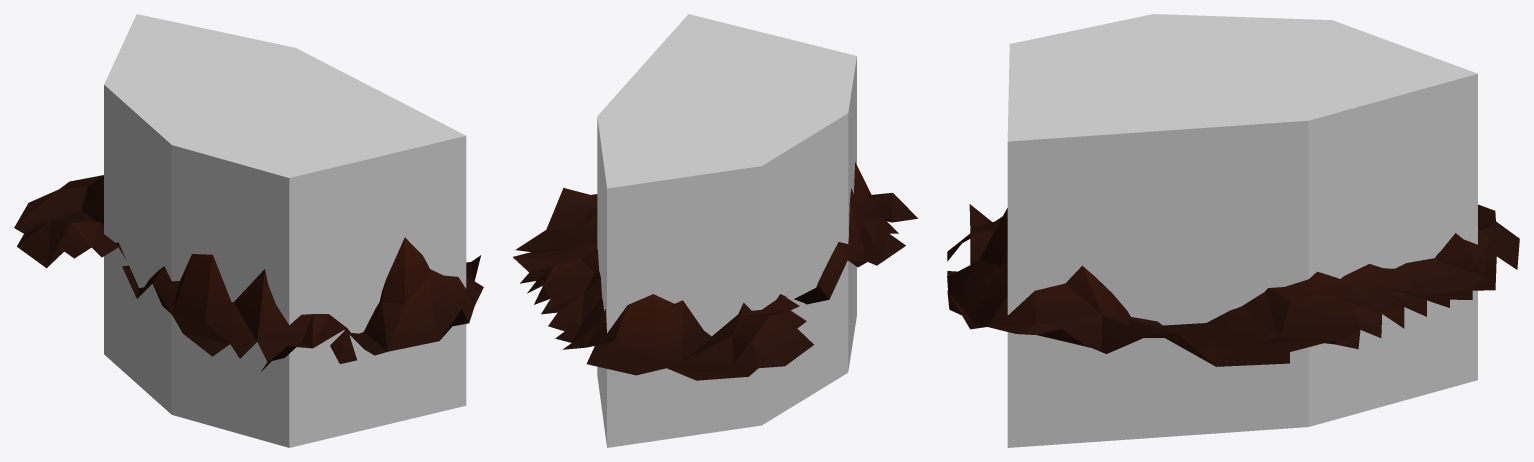
The model's file is island_small_volcanic_Collection_5.fbx.
3 renders of one model, left to right at view 1: azimuth 30°, elevation 25°; view 2: azimuth 150°, elevation 25°; view 3: azimuth 270°, elevation 25°, orthographic. The views are drawn at different scales.
Visible parts, largest first — view 1: islandRock_5_col, islandRock_5; view 2: islandRock_5_col, islandRock_5; view 3: islandRock_5_col, islandRock_5.
Part boxes in pixels (left/top/right/bottom): islandRock_5_col: left=104, top=14, right=466, bottom=447; islandRock_5: left=14, top=175, right=483, bottom=371; islandRock_5_col: left=597, top=14, right=856, bottom=447; islandRock_5: left=513, top=162, right=917, bottom=380; islandRock_5_col: left=1007, top=14, right=1477, bottom=447; islandRock_5: left=947, top=204, right=1519, bottom=366.
Bounding box in the file's own units: 2613 × 2033 × 3445.
